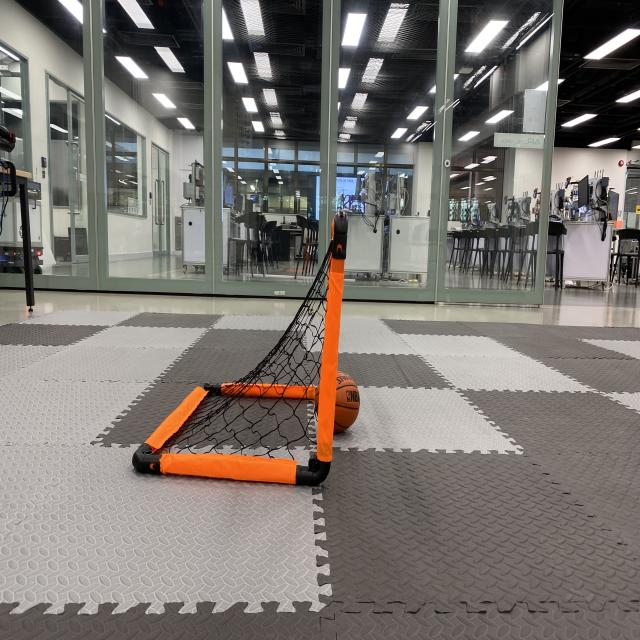ball: (311, 368, 362, 438)
gate: (129, 207, 350, 492)
